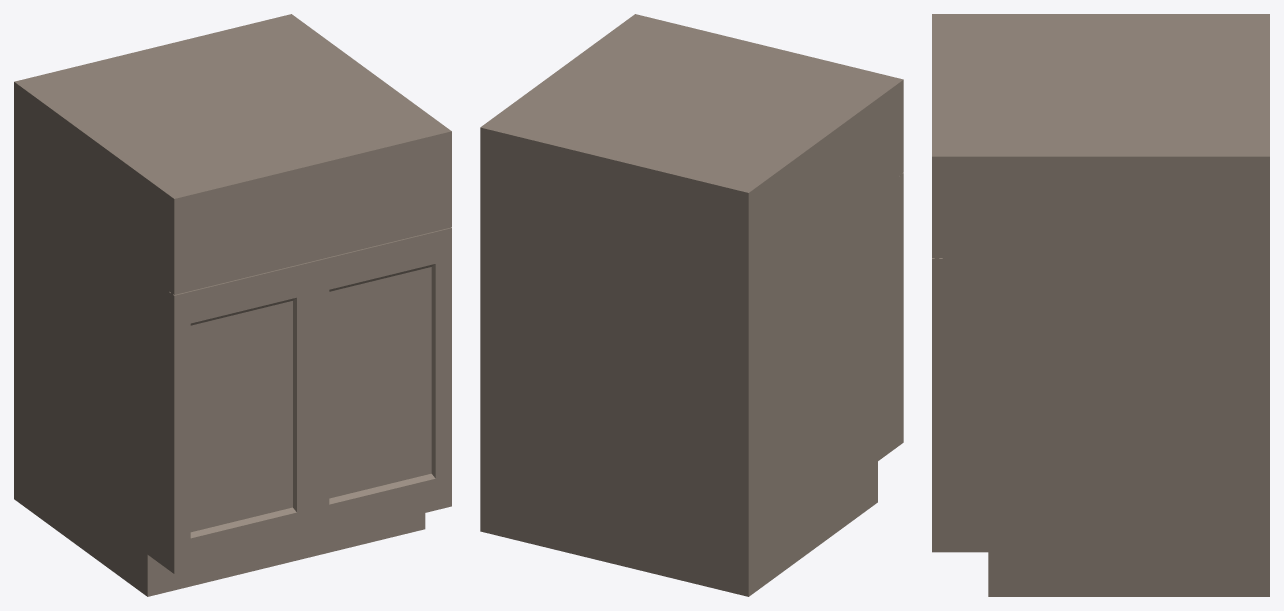
The model's file is Base-Cabinet-Double-Door-One-Drawer-24-Deep_std_001_W24in.glb.
The picture shows the model from 3 angles, left to right: view 1: azimuth 30°, elevation 25°; view 2: azimuth 150°, elevation 25°; view 3: azimuth 270°, elevation 25°; orthographic projection. The views are drawn at different scales.
Parts seen in each view (by area): view 1: Base-Cabinet-Double-Door-One-Drawer-24-Deep.std.001_W24in; view 2: Base-Cabinet-Double-Door-One-Drawer-24-Deep.std.001_W24in; view 3: Base-Cabinet-Double-Door-One-Drawer-24-Deep.std.001_W24in.
Boxes of the visible parts, x1=… form: Base-Cabinet-Double-Door-One-Drawer-24-Deep.std.001_W24in: x1=14, y1=14, x2=451, y2=596; Base-Cabinet-Double-Door-One-Drawer-24-Deep.std.001_W24in: x1=480, y1=14, x2=903, y2=596; Base-Cabinet-Double-Door-One-Drawer-24-Deep.std.001_W24in: x1=932, y1=14, x2=1269, y2=596.
Size of the model in its own units: 0.6096 by 0.8763 by 0.6096.
